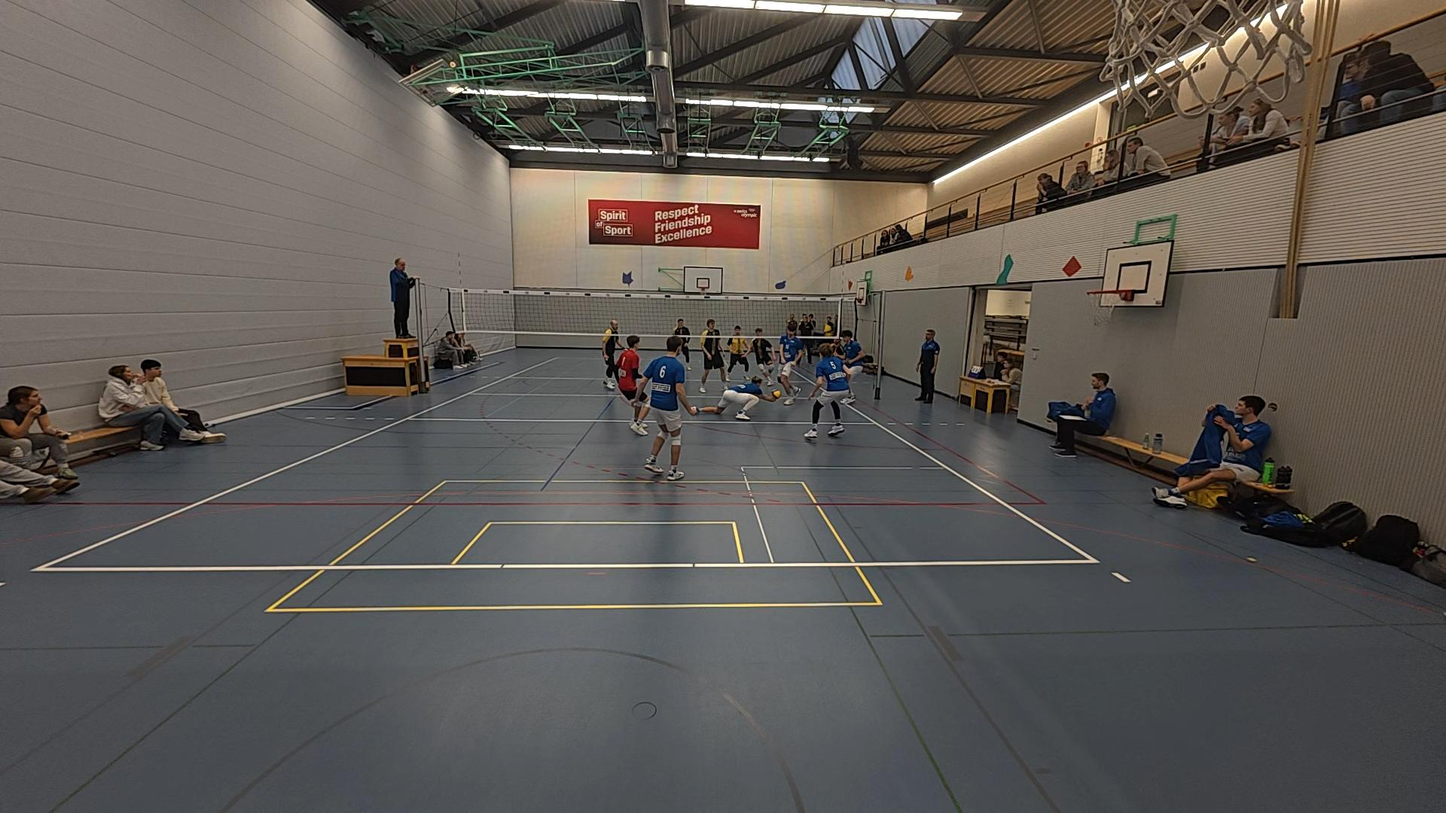difesa: (700, 379, 782, 421)
